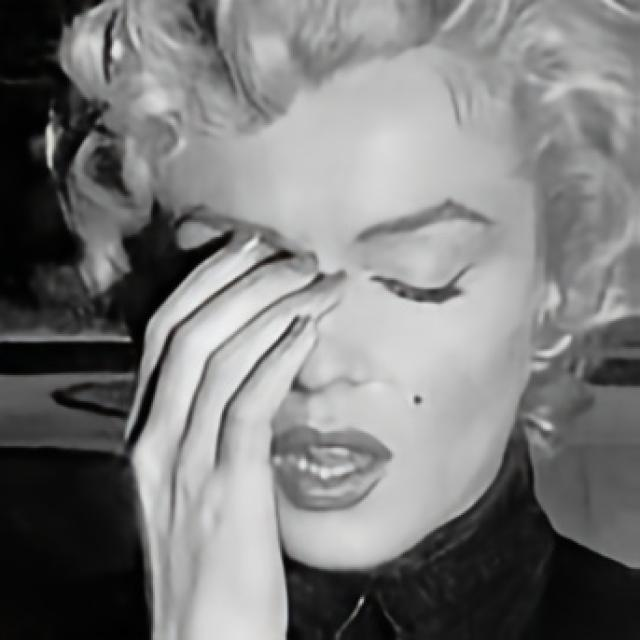sad: (158, 38, 538, 578)
